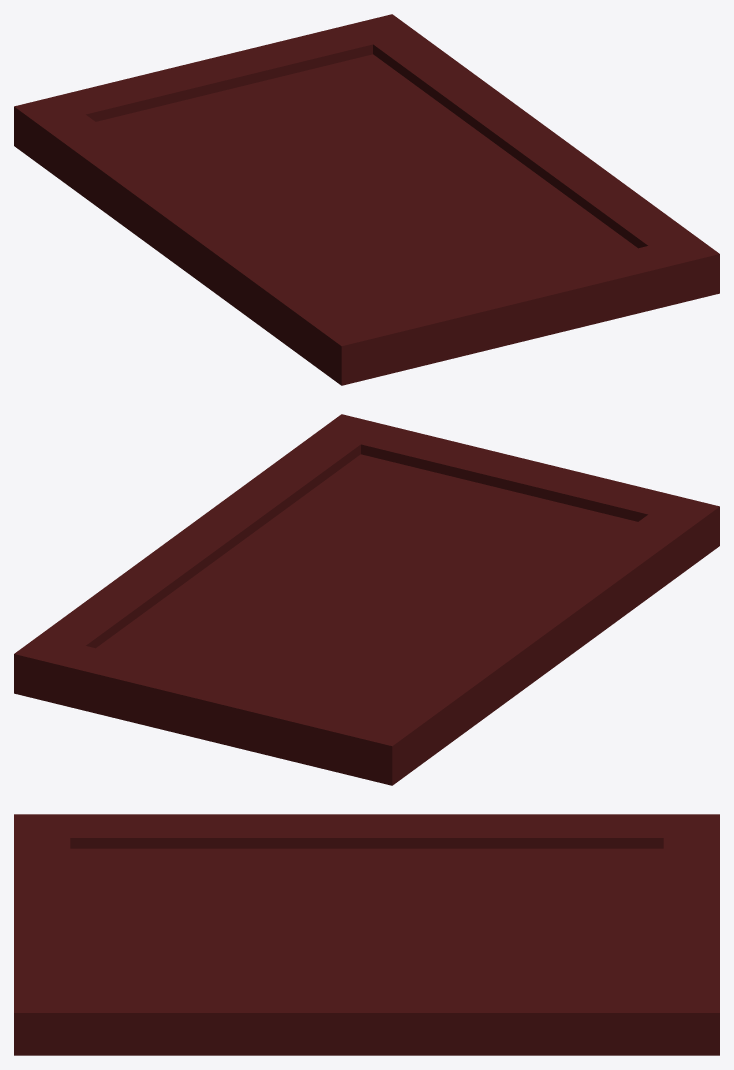
The model's file is buildings1.glb.
3 renders of one model, top to bottom at view 1: azimuth 30°, elevation 25°; view 2: azimuth 150°, elevation 25°; view 3: azimuth 270°, elevation 25°, orthographic. The views are drawn at different scales.
Parts seen in each view (by area): view 1: medrect_top_1; view 2: medrect_top_1; view 3: medrect_top_1.
Boxes of the visible parts, x1,y1,x2,y2 form: medrect_top_1: (14, 14, 719, 385); medrect_top_1: (14, 414, 719, 785); medrect_top_1: (14, 814, 719, 1055).
Bounding box in the file's own units: 5 × 0.5 × 7.5.
